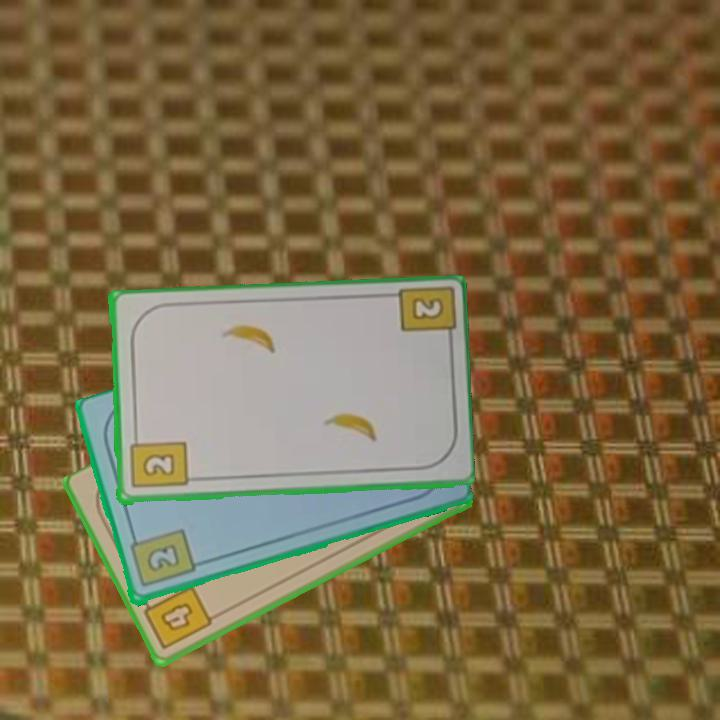2b: (126, 526, 197, 591), (126, 430, 189, 492), (407, 294, 446, 323)
4b: (138, 582, 215, 653)
